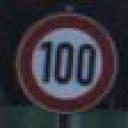speed_limit_100: (17, 14, 116, 112)
